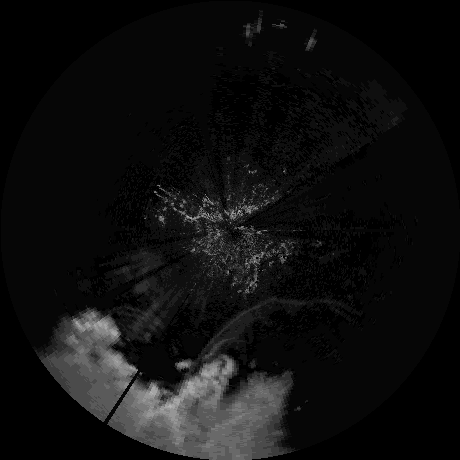frontgust: (192, 296, 336, 362)
